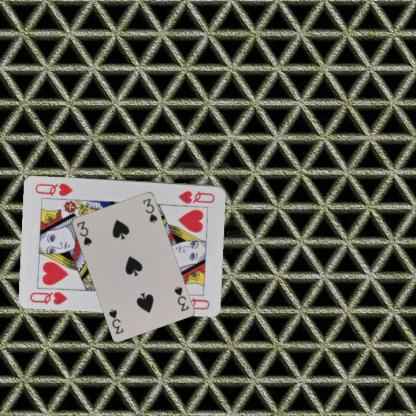3s: (74, 218, 93, 248), (172, 284, 190, 312)
Qh: (28, 289, 68, 306), (176, 188, 216, 204)
